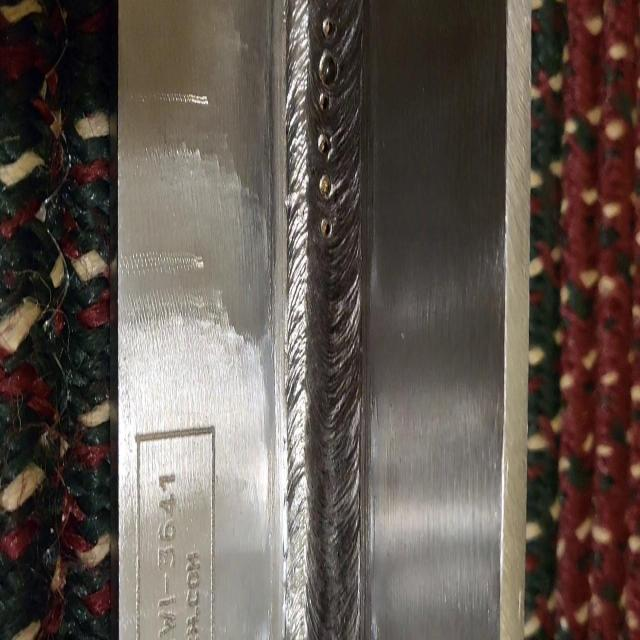Welding Line: (286, 2, 360, 640)
Workpiece: (120, 0, 528, 640)
porosity: (318, 13, 338, 234)
